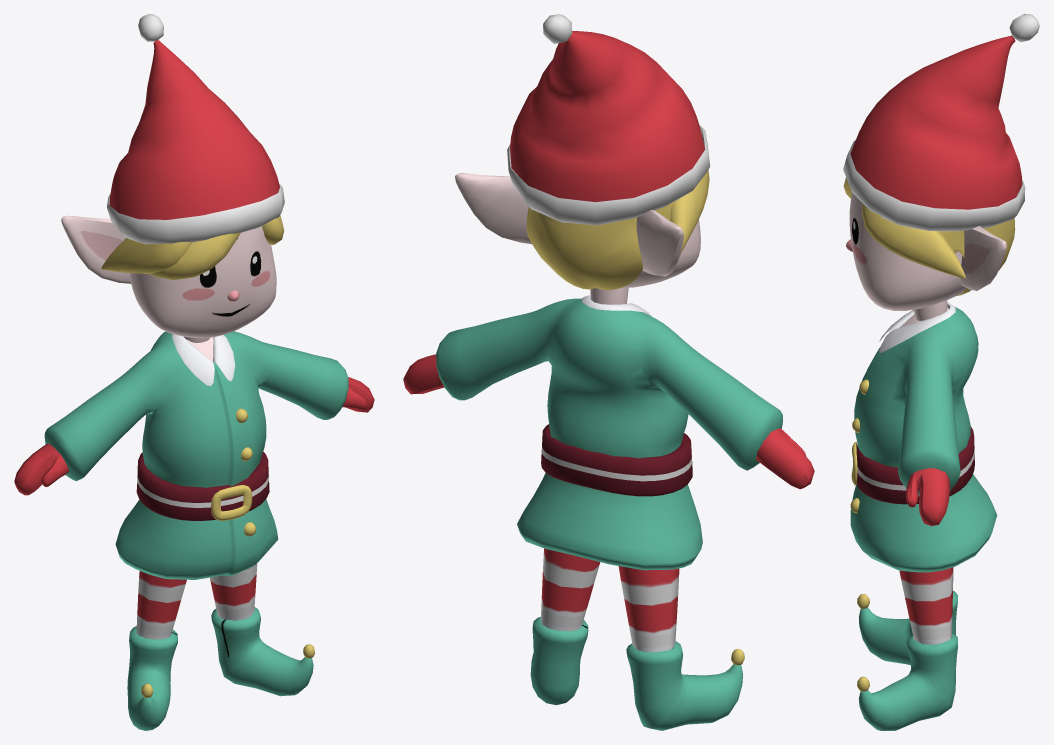
Rendered from elf_neon.fbx.
The picture shows the model from 3 angles, left to right: view 1: azimuth 30°, elevation 25°; view 2: azimuth 150°, elevation 25°; view 3: azimuth 270°, elevation 25°; orthographic projection. The views are drawn at different scales.
Visible parts, largest first — view 1: Object_2; view 2: Object_2; view 3: Object_2.
Boxes of the visible parts, left/top/right/bottom form: Object_2: left=14, top=14, right=374, bottom=730; Object_2: left=403, top=14, right=814, bottom=730; Object_2: left=843, top=14, right=1039, bottom=730.
Bounding box in the file's own units: 63.28 × 110 × 28.86.
